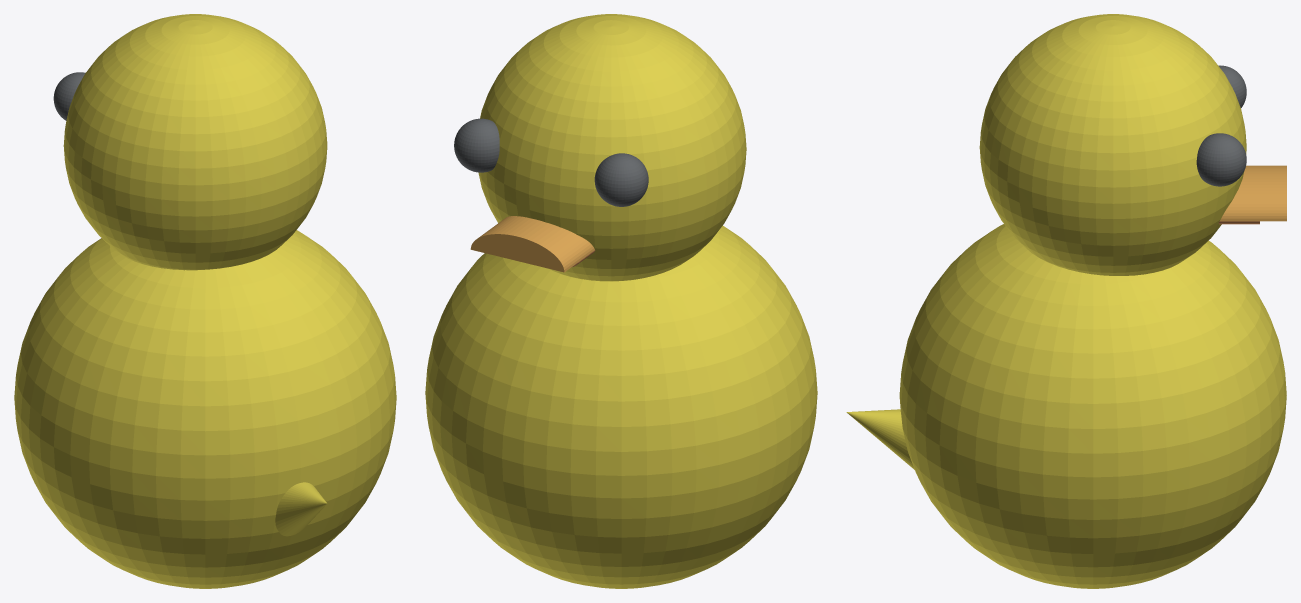
The model's file is duck.glb.
3 renders of one model, left to right at view 1: azimuth 30°, elevation 25°; view 2: azimuth 150°, elevation 25°; view 3: azimuth 270°, elevation 25°, orthographic. The views are drawn at different scales.
Parts seen in each view (by area): view 1: Mesh_Mesh_head_geo.001_lambert2SG.001; view 2: Mesh_Mesh_head_geo.001_lambert2SG.001; view 3: Mesh_Mesh_head_geo.001_lambert2SG.001.
Boxes of the visible parts, x1,y1,x2,y2 form: Mesh_Mesh_head_geo.001_lambert2SG.001: (14,14,396,588); Mesh_Mesh_head_geo.001_lambert2SG.001: (425,14,817,588); Mesh_Mesh_head_geo.001_lambert2SG.001: (846,14,1286,588).
Bounding box in the file's own units: 0.029 × 0.045 × 0.033.
